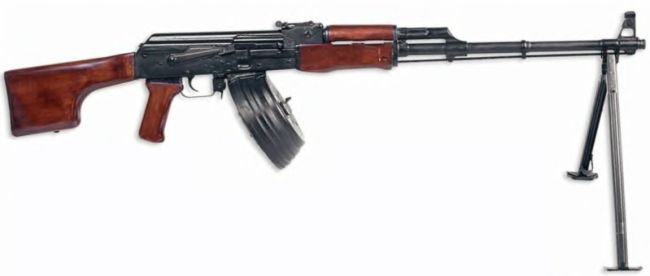rifle: (5, 10, 645, 231)
